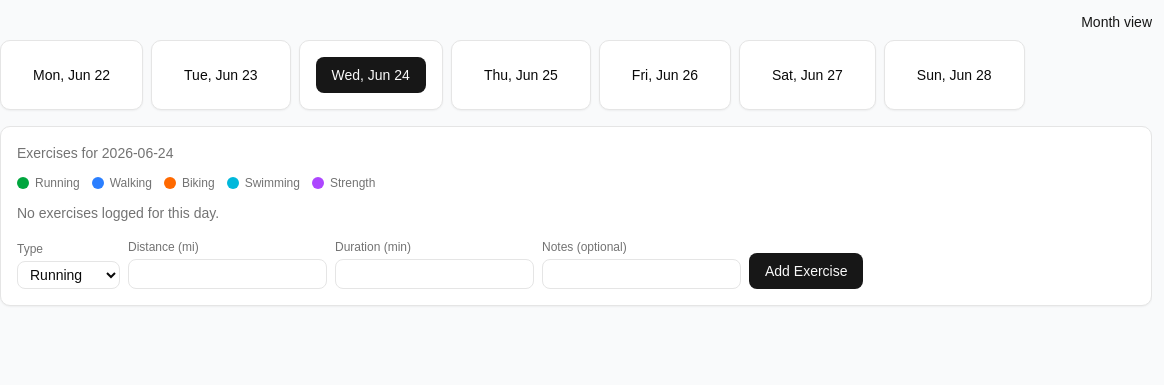
ExerciseCalendarPage › submitting the form posts a new exercise and it appears after refetch
Expected: the text "No exercises logged for this day." is shown, top-left (17, 205), bottom-right (219, 221)
Type "3.1" into the number field labelled "Distance (mi)" at (228, 274), box top-left (128, 259), bottom-right (327, 289)
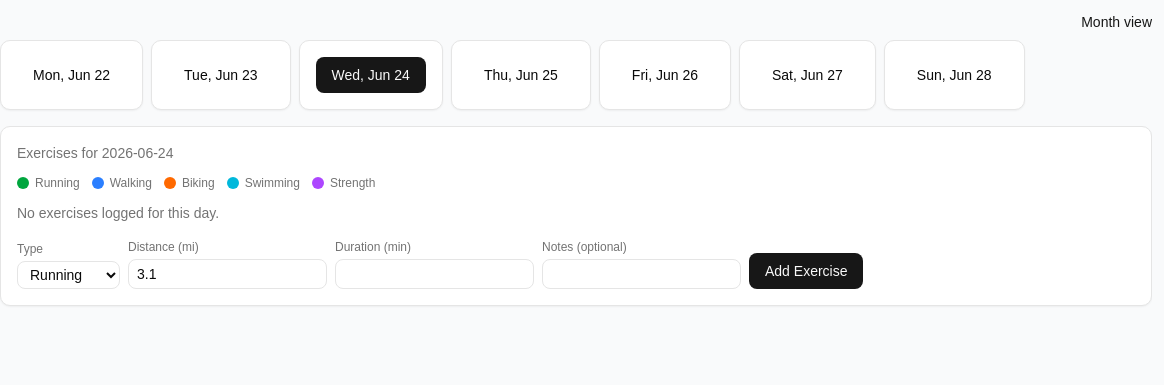
Type "28" into the number field labelled "Duration (min)" at (434, 274), box top-left (335, 259), bottom-right (534, 289)
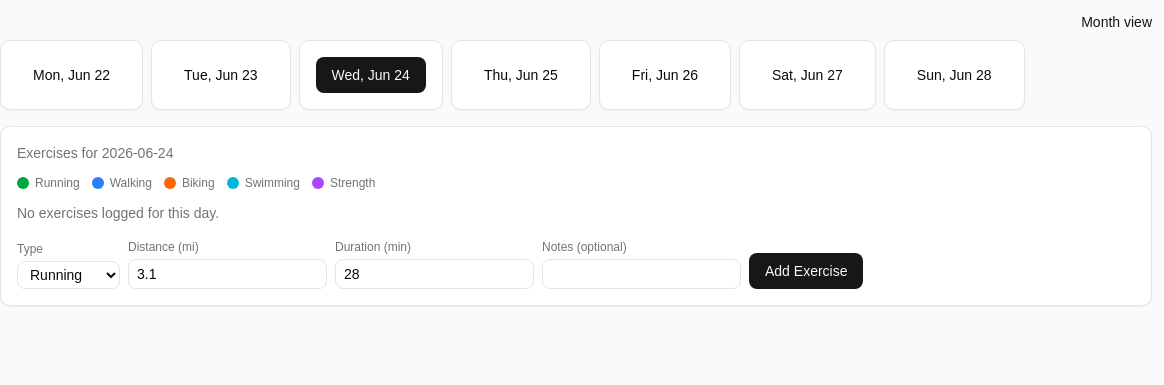
Click the button "Add Exercise" at (806, 271), box top-left (749, 253), bottom-right (864, 289)
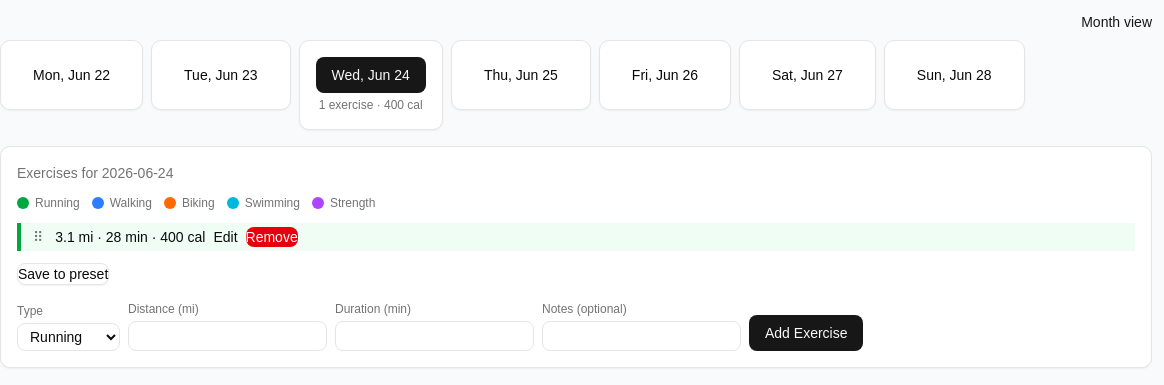
Expected: the text "3.1 mi · 28 min · 400 cal" is shown, top-left (55, 227), bottom-right (206, 247)
Expected: the text "No exercises logged for this day." is gone
